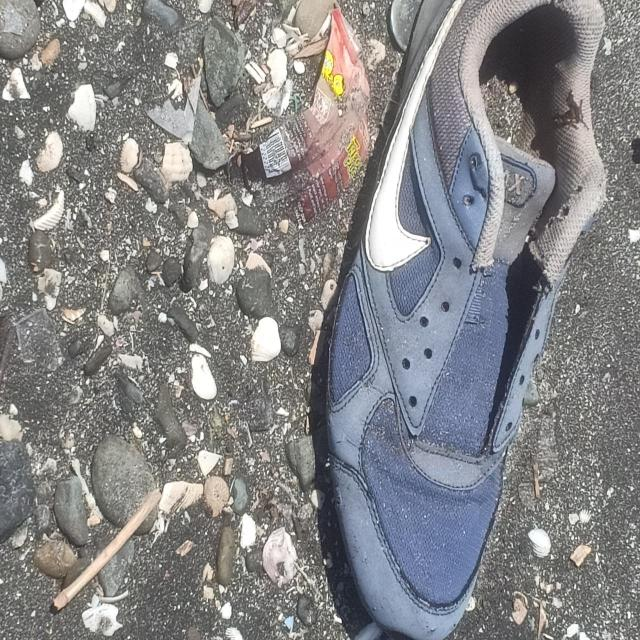plastic_waste: (260, 9, 372, 226)
rubber_waste: (325, 1, 609, 639)
